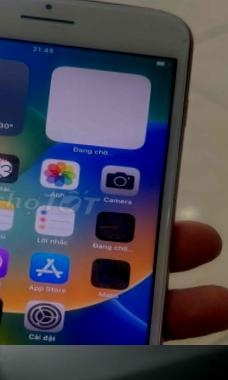scratch: (0, 0, 210, 345)
